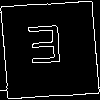E: (25, 24, 65, 74)
